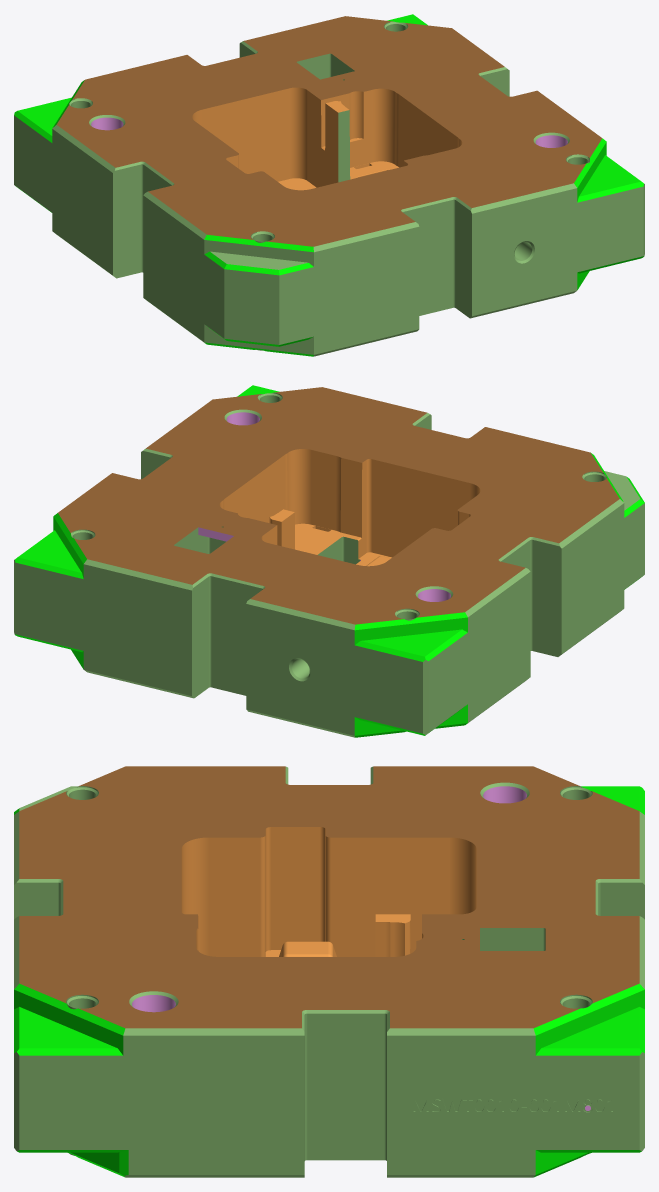
3 views of the same model, one above another, from view 1: azimuth 30°, elevation 25°; view 2: azimuth 150°, elevation 25°; view 3: azimuth 270°, elevation 25° (orthographic). The views are drawn at different scales.
Parts seen in each view (by area): view 1: MSWT0010-001-M801-A1_temp; view 2: MSWT0010-001-M801-A1_temp; view 3: MSWT0010-001-M801-A1_temp.
Part boxes in pixels (x1=…): MSWT0010-001-M801-A1_temp: x1=14, y1=14, x2=644, y2=356; MSWT0010-001-M801-A1_temp: x1=14, y1=385, x2=644, y2=737; MSWT0010-001-M801-A1_temp: x1=14, y1=766, x2=644, y2=1177.
Size of the model in its own units: 0.115 by 0.03 by 0.115.
